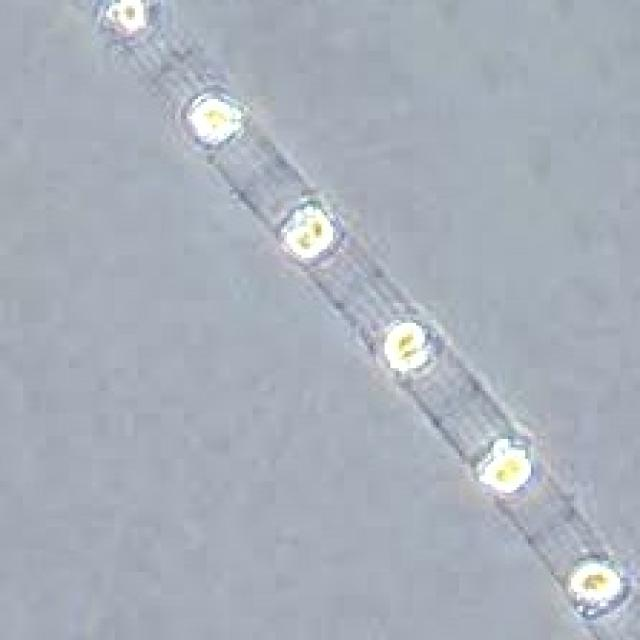Skeletonema: (86, 15, 638, 627)
